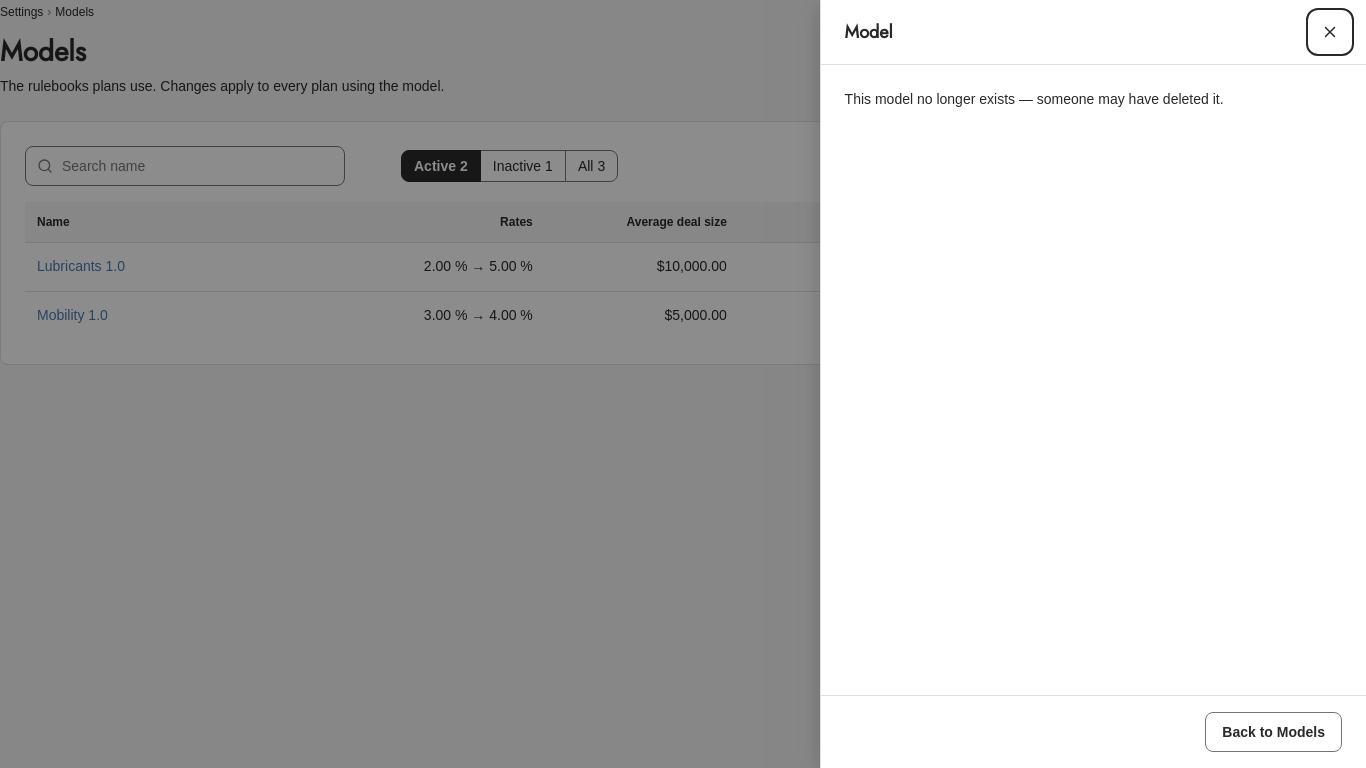
Test: ModelsPage: details (US1 scenario 3) › says when the model of the address no longer exists, with Back to Models
Expected: the dialog shows "This model no longer exists — someone may have deleted it.", [845, 91, 1224, 107]
Click the button "Back to Models" at (1274, 732), box [1205, 712, 1342, 752]
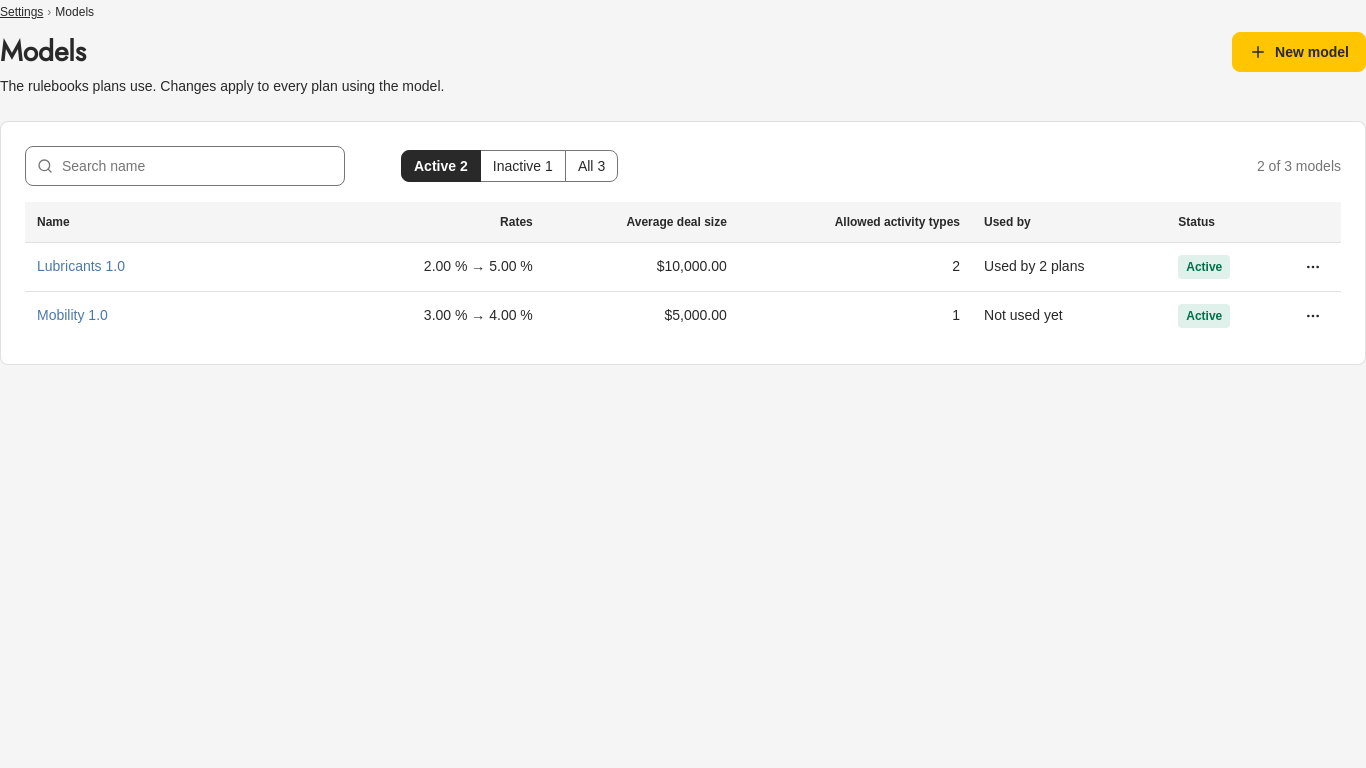
Result: the dialog is gone
